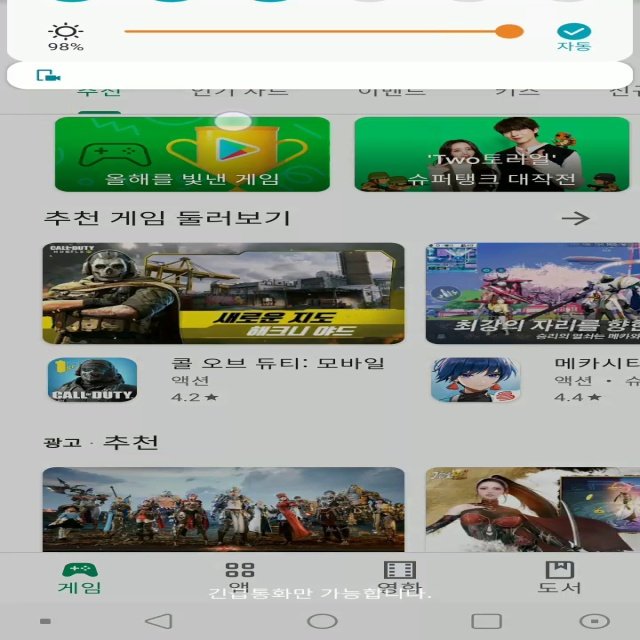Cursor: (212, 110, 256, 132)
